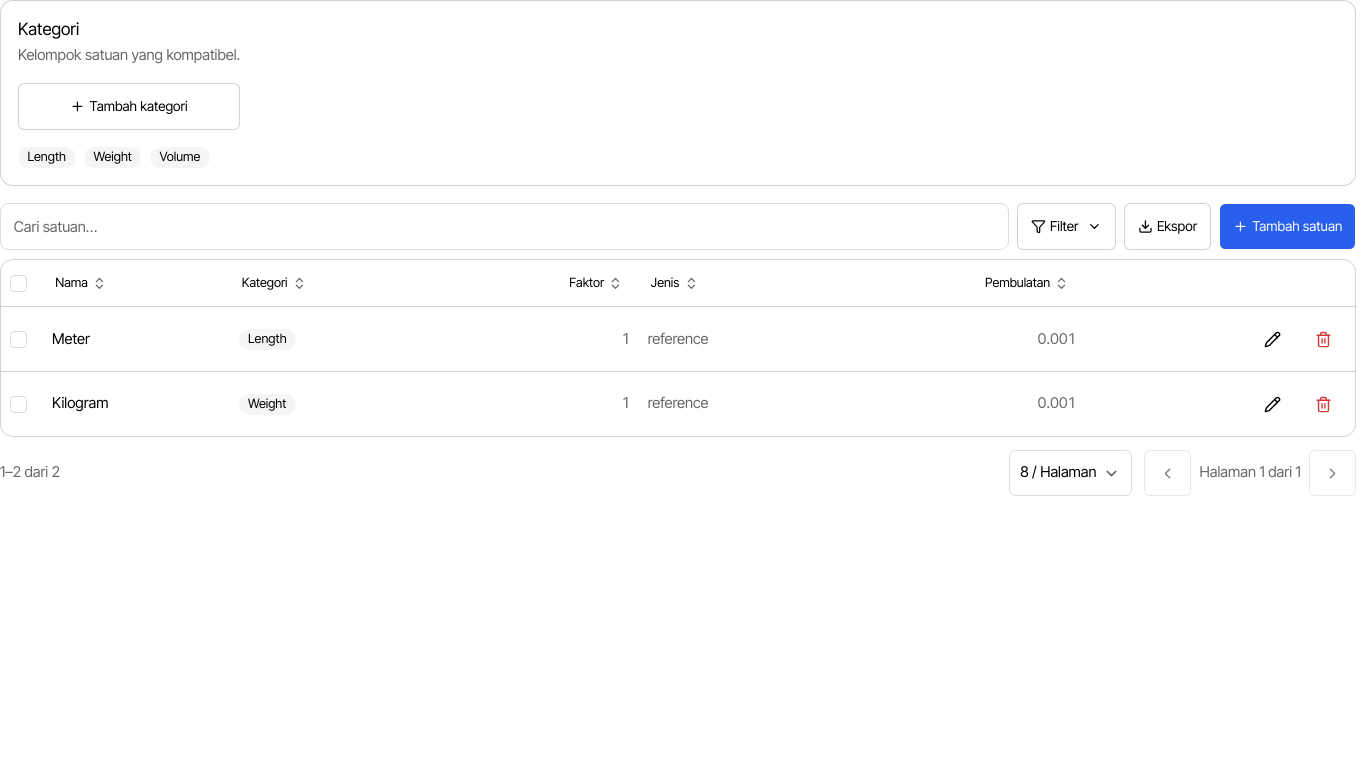
Test case: UnitsSection › deletes a unit of measure after confirmation
The image size is (1366, 768).
Expected: the text "Meter" is shown, [52,330,90,348]
Click the button named "Hapus" in the row of "Meter". click: (1323, 339)
box: [1300,316,1347,363]
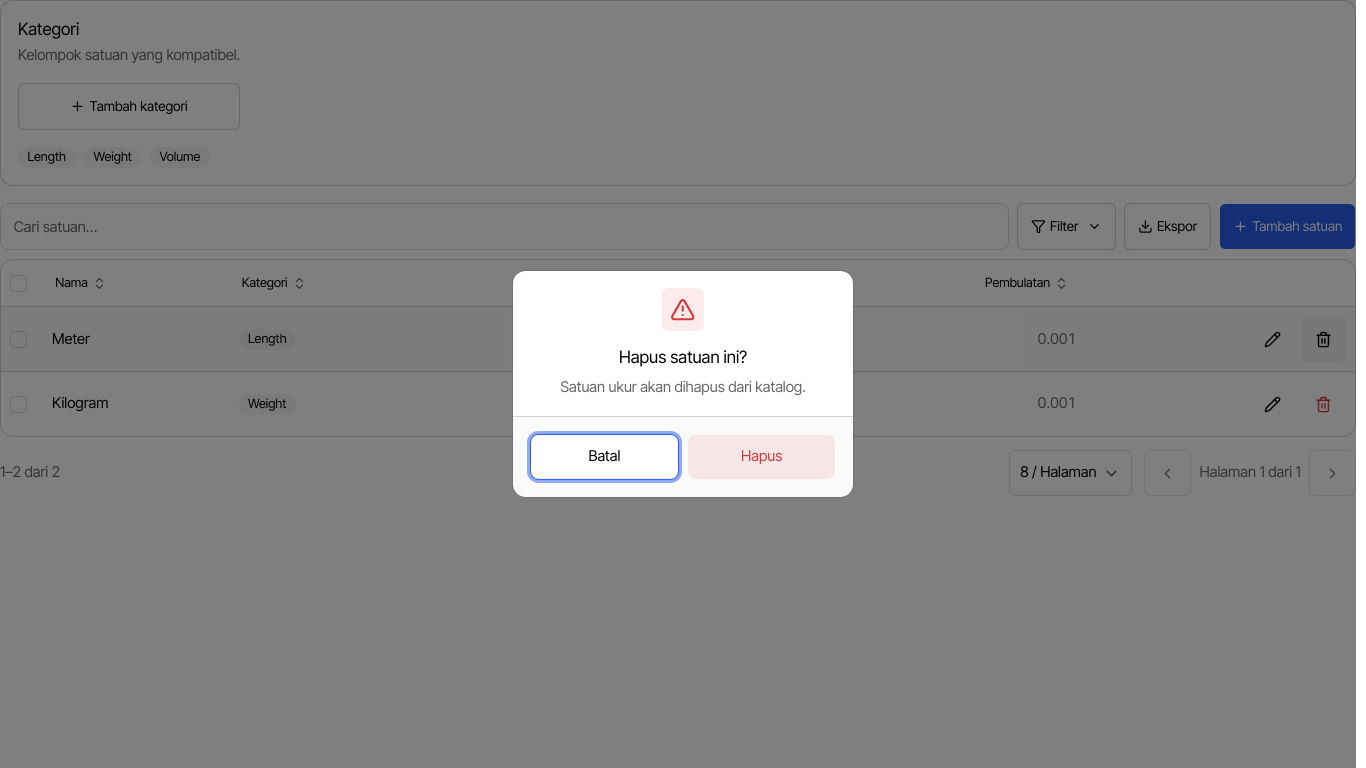
Click the button "Hapus". click: (762, 457)
box: [687,433,836,480]
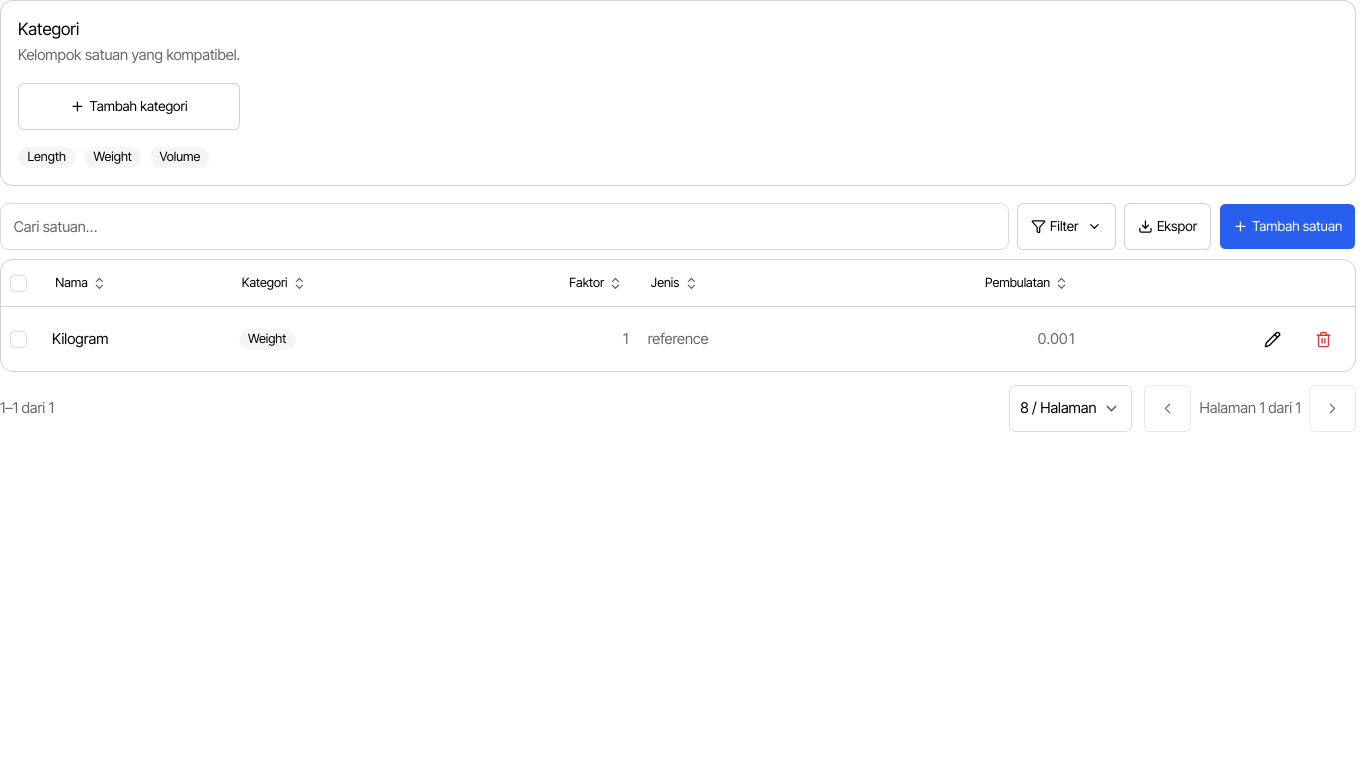
Expected: the text "Meter" is gone
